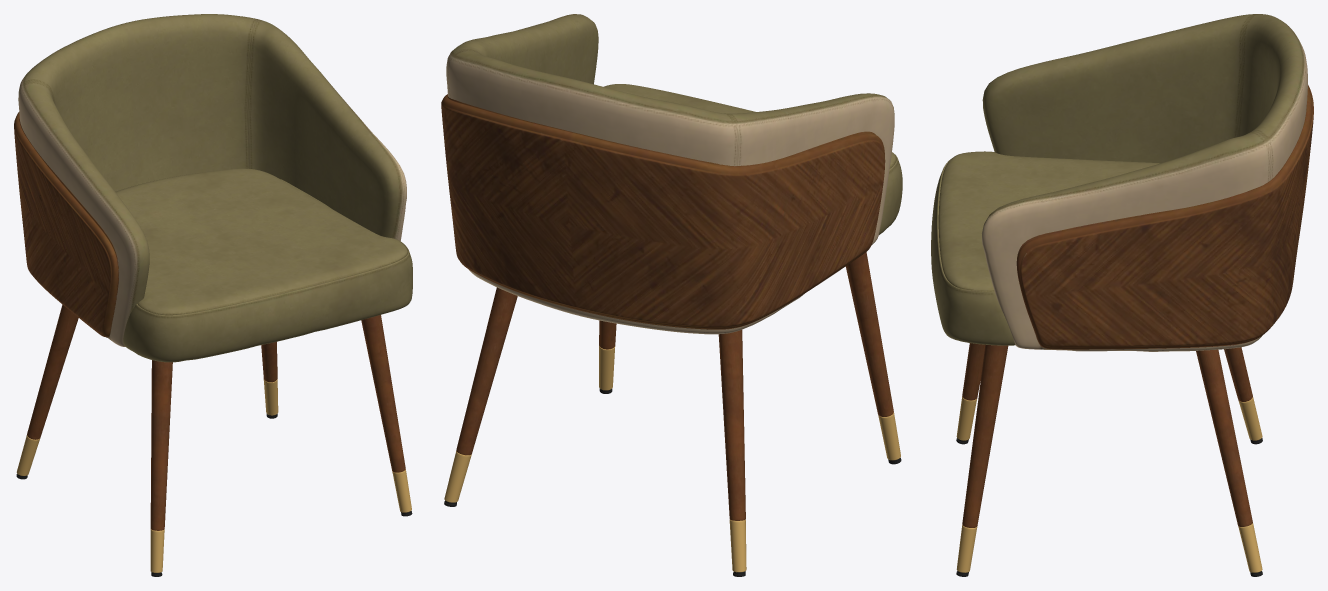
Rendered from chair-5.glb.
The picture shows the model from 3 angles, left to right: view 1: azimuth 30°, elevation 25°; view 2: azimuth 150°, elevation 25°; view 3: azimuth 270°, elevation 25°; orthographic projection. The views are drawn at different scales.
Visible parts, largest first — view 1: polySurface42; view 2: polySurface42; view 3: polySurface42.
Part boxes in pixels (x1,y1,x2,y2): polySurface42: (14,14,412,576); polySurface42: (441,14,902,576); polySurface42: (931,14,1313,576).
Bounding box in the file's own units: 0.5455 × 0.7433 × 0.5742.
1 material, 1 textured.
